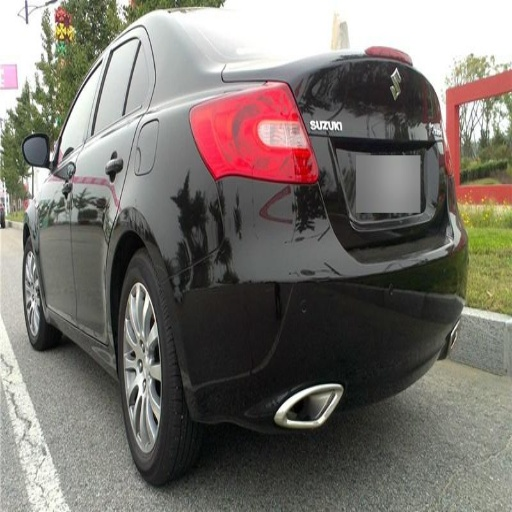back_bumper: (177, 178, 462, 424), (378, 302, 461, 391)
back_glass: (174, 1, 261, 60)
back_left_door: (75, 30, 154, 284)
